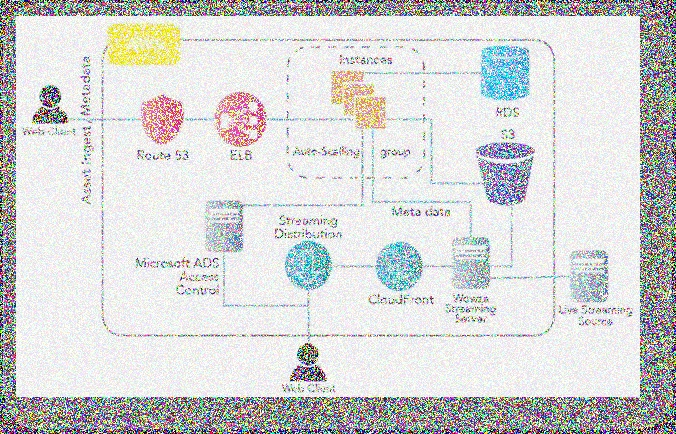Cloudfront: (376, 237, 426, 293)
Dynamo DB: (476, 41, 536, 105)
EC2: (325, 64, 391, 133)
ELB: (214, 83, 273, 151)
Route53: (139, 87, 188, 147)
S3: (468, 139, 543, 215)
Server: (448, 232, 495, 293), (567, 244, 613, 305), (203, 197, 247, 256)
Users: (27, 80, 73, 127), (290, 339, 332, 385)
